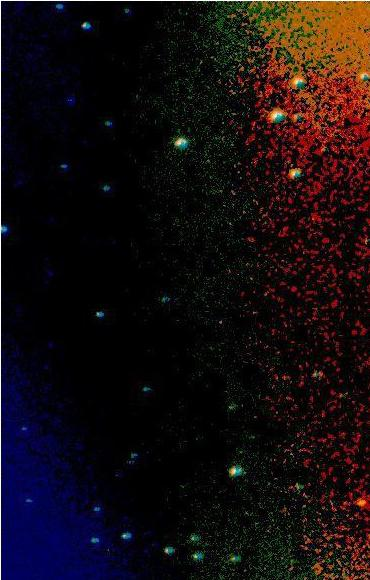star: (349, 486, 370, 516)
